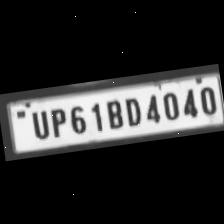0: (195, 82, 219, 115), (158, 88, 181, 120)
1: (85, 98, 106, 132)
4: (177, 84, 200, 119), (139, 90, 162, 124)
6: (64, 100, 89, 136)
B: (101, 96, 125, 130)
D: (120, 92, 144, 126)
P: (45, 104, 68, 138)
U: (26, 106, 52, 140)
